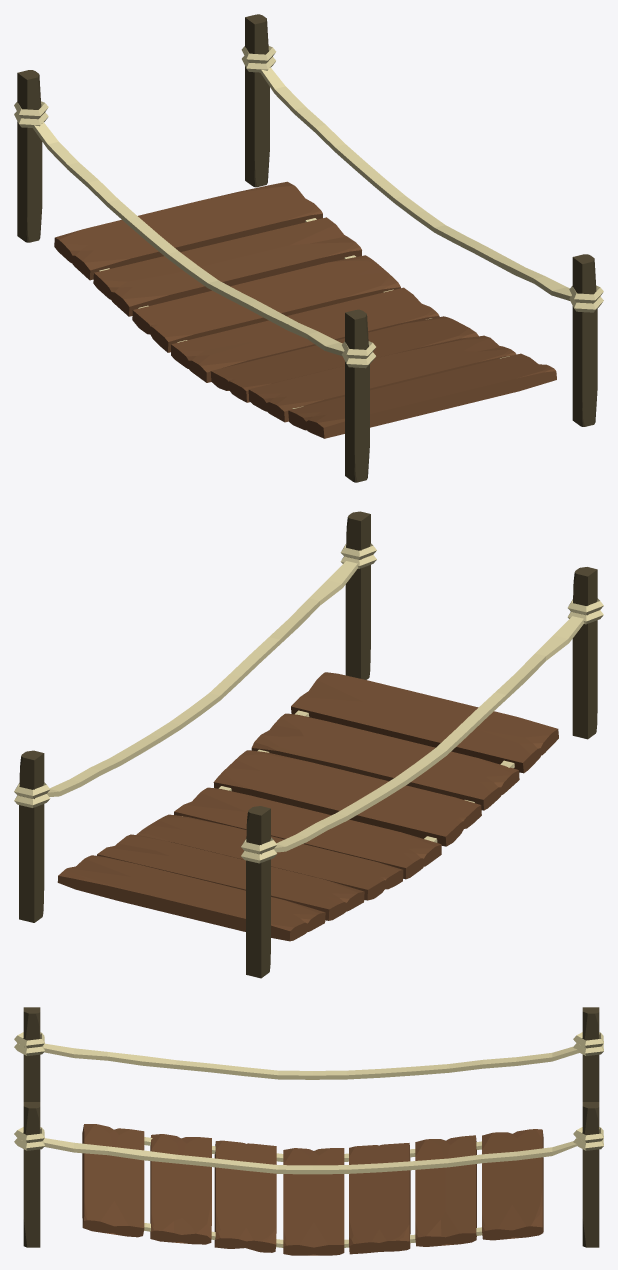
File: bridge low poly.fbx
3 views of the same model, one above another, from view 1: azimuth 30°, elevation 25°; view 2: azimuth 150°, elevation 25°; view 3: azimuth 270°, elevation 25° (orthographic). The views are drawn at different scales.
Visible parts, largest first — view 1: Cube.006, Cube.005, Cube.004, Cube, Cube.003, Cube.001, Cube.002, Cube.010, Cube.009, Cube.012, Cube.013, Cube.011 (+1 smaller); view 2: Cube, Cube.002, Cube.001, Cube.006, Cube.003, Cube.005, Cube.004, Cube.009, Cube.010, Cube.014, Cube.011, Cube.013 (+1 smaller); view 3: Cube.002, Cube, Cube.004, Cube.003, Cube.005, Cube.006, Cube.001, Cube.010, Cube.009, Cube.012, Cube.014, Cube.011 (+1 smaller).
Boxes of the visible parts, left/top/right/bottom form: Cube.006: left=54, top=181, right=322, bottom=280; Cube.005: left=93, top=217, right=361, bottom=316; Cube.004: left=132, top=255, right=400, bottom=352; Cube: left=288, top=353, right=556, bottom=438; Cube.003: left=171, top=287, right=439, bottom=382; Cube.001: left=248, top=335, right=516, bottom=422; Cube.002: left=210, top=316, right=478, bottom=402; Cube.010: left=32, top=119, right=344, bottom=356; Cube.009: left=260, top=67, right=571, bottom=300; Cube.012: left=572, top=254, right=597, bottom=426; Cube.013: left=17, top=70, right=42, bottom=242; Cube.011: left=345, top=309, right=369, bottom=482; Cube: left=291, top=672, right=558, bottom=773; Cube.002: left=213, top=750, right=481, bottom=846; Cube.001: left=251, top=713, right=519, bottom=810; Cube.006: left=57, top=855, right=325, bottom=941; Cube.003: left=174, top=787, right=441, bottom=879; Cube.005: left=97, top=834, right=364, bottom=920; Cube.004: left=136, top=814, right=403, bottom=900; Cube.009: left=47, top=561, right=357, bottom=796; Cube.010: left=274, top=616, right=584, bottom=852; Cube.014: left=19, top=750, right=44, bottom=922; Cube.011: left=572, top=567, right=597, bottom=739; Cube.013: left=246, top=806, right=270, bottom=978; Cube.002: left=214, top=1140, right=276, bottom=1252; Cube: left=82, top=1124, right=144, bottom=1237; Cube.004: left=349, top=1143, right=410, bottom=1254; Cube.003: left=283, top=1148, right=344, bottom=1255; Cube.005: left=415, top=1135, right=476, bottom=1246; Cube.006: left=482, top=1129, right=543, bottom=1240; Cube.001: left=150, top=1134, right=211, bottom=1244; Cube.010: left=43, top=1043, right=579, bottom=1079; Cube.009: left=43, top=1138, right=577, bottom=1174; Cube.012: left=23, top=1102, right=40, bottom=1247; Cube.014: left=582, top=1102, right=599, bottom=1247; Cube.011: left=23, top=1007, right=40, bottom=1101.
Size of the model in its own units: 834 by 543 by 1936.
